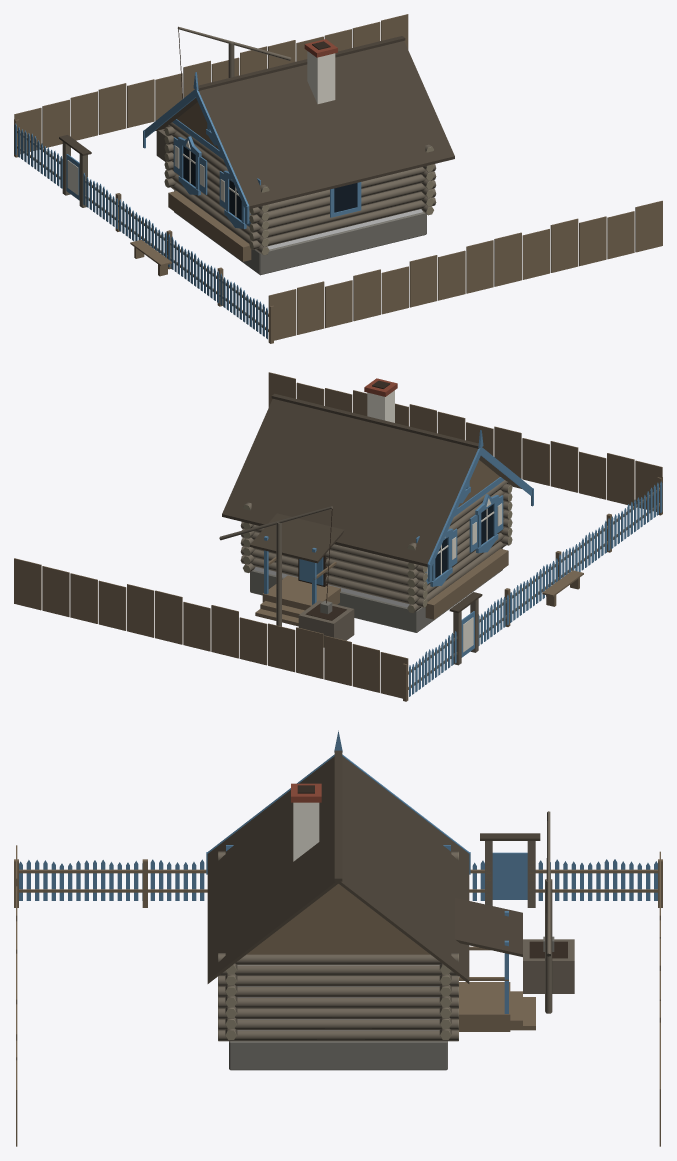
The model's file is izba-3.glb.
The picture shows the model from 3 angles, top to bottom: view 1: azimuth 30°, elevation 25°; view 2: azimuth 150°, elevation 25°; view 3: azimuth 270°, elevation 25°; orthographic projection. The views are drawn at different scales.
Visible parts, largest first — view 1: 04_#7a6a56, 05_#4e463c, 02_#6e665a, 06_paint0, 00_#77756e, 08_#e6e2d6, 07_#1c2630, 03_#8e8672, solid; view 2: 04_#7a6a56, 05_#4e463c, 06_paint0, 02_#6e665a, 00_#77756e, 08_#e6e2d6, 03_#8e8672, 01_#3a3028, 07_#1c2630; view 3: 05_#4e463c, 02_#6e665a, 04_#7a6a56, 06_paint0, 00_#77756e, 03_#8e8672, 08_#e6e2d6, solid, 01_#3a3028.
Part boxes in pixels (<box>): 04_#7a6a56: <box>14,14,662,343</box>; 05_#4e463c: <box>59,36,454,208</box>; 02_#6e665a: <box>62,26,436,254</box>; 06_paint0: <box>14,72,361,339</box>; 00_#77756e: <box>174,190,426,275</box>; 08_#e6e2d6: <box>67,51,335,220</box>; 07_#1c2630: <box>183,146,357,220</box>; 03_#8e8672: <box>164,127,434,255</box>; solid: <box>267,209,422,249</box>; 04_#7a6a56: <box>14,372,662,701</box>; 05_#4e463c: <box>222,393,521,613</box>; 06_paint0: <box>264,430,662,696</box>; 02_#6e665a: <box>219,480,510,665</box>; 00_#77756e: <box>250,548,502,632</box>; 08_#e6e2d6: <box>367,390,502,652</box>; 03_#8e8672: <box>243,485,512,613</box>; 01_#3a3028: <box>298,380,390,620</box>; 07_#1c2630: <box>435,504,493,578</box>; 05_#4e463c: <box>207,750,540,983</box>; 02_#6e665a: <box>218,811,574,1041</box>; 04_#7a6a56: <box>14,845,662,1146</box>; 06_paint0: <box>19,730,657,1013</box>; 00_#77756e: <box>229,936,554,1070</box>; 03_#8e8672: <box>218,852,458,1040</box>; 08_#e6e2d6: <box>293,802,319,861</box>; solid: <box>237,965,439,1030</box>; 01_#3a3028: <box>297,785,567,958</box>.
Bounding box in the file's own units: 13.9 × 6.05 × 15.12.
